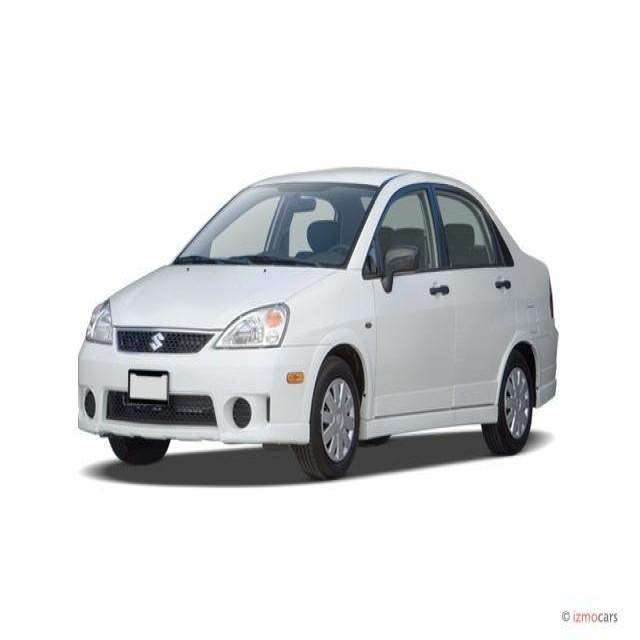Car: (64, 138, 578, 470)
